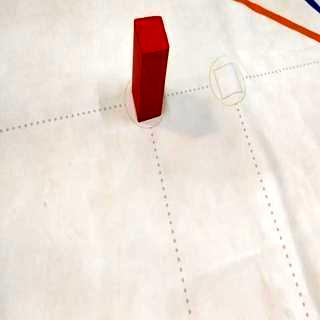redbox: (130, 15, 170, 124)
